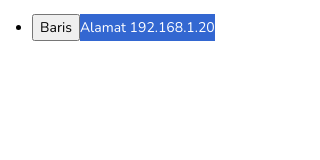
Test: teks yang dipilih di baris › baris tanpa item: klik kanan teks terpilih memakai menu Salin global
This screenshot has width=320, height=160.
Right-click the text with test id "teks" at (147, 28), box [80, 18, 215, 37]
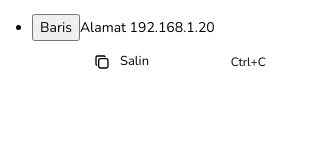
Result: the menu named "Menu teks" is shown at [80, 41, 280, 83]
